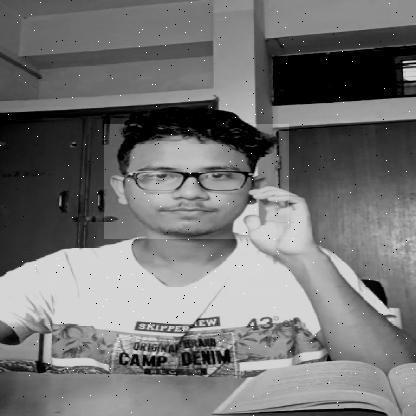Normal: (104, 124, 289, 239)
